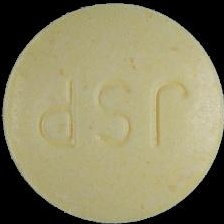43063-191: (0, 0, 224, 224)
